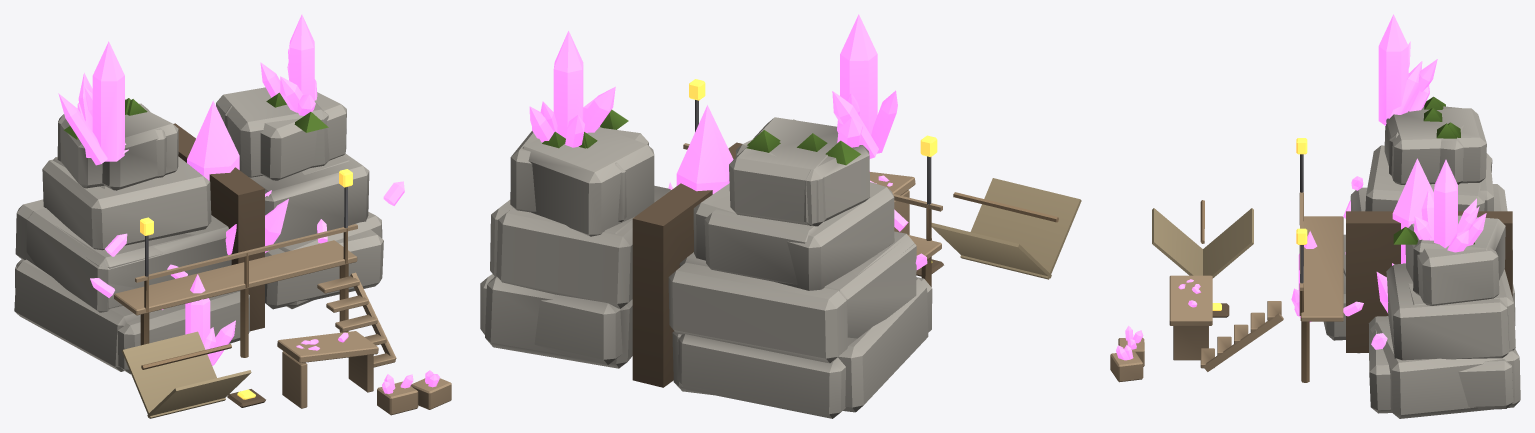
The model's file is bld_zhila.glb.
3 renders of one model, left to right at view 1: azimuth 30°, elevation 25°; view 2: azimuth 150°, elevation 25°; view 3: azimuth 270°, elevation 25°, orthographic. The views are drawn at different scales.
Parts seen in each view (by area): view 1: zhila; view 2: zhila; view 3: zhila.
Boxes of the visible parts, x1=… form: zhila: x1=14, y1=14, x2=451, y2=418; zhila: x1=480, y1=14, x2=1081, y2=418; zhila: x1=1110, y1=14, x2=1520, y2=418.
Size of the model in its own units: 1.62 by 1.33 by 1.72.
